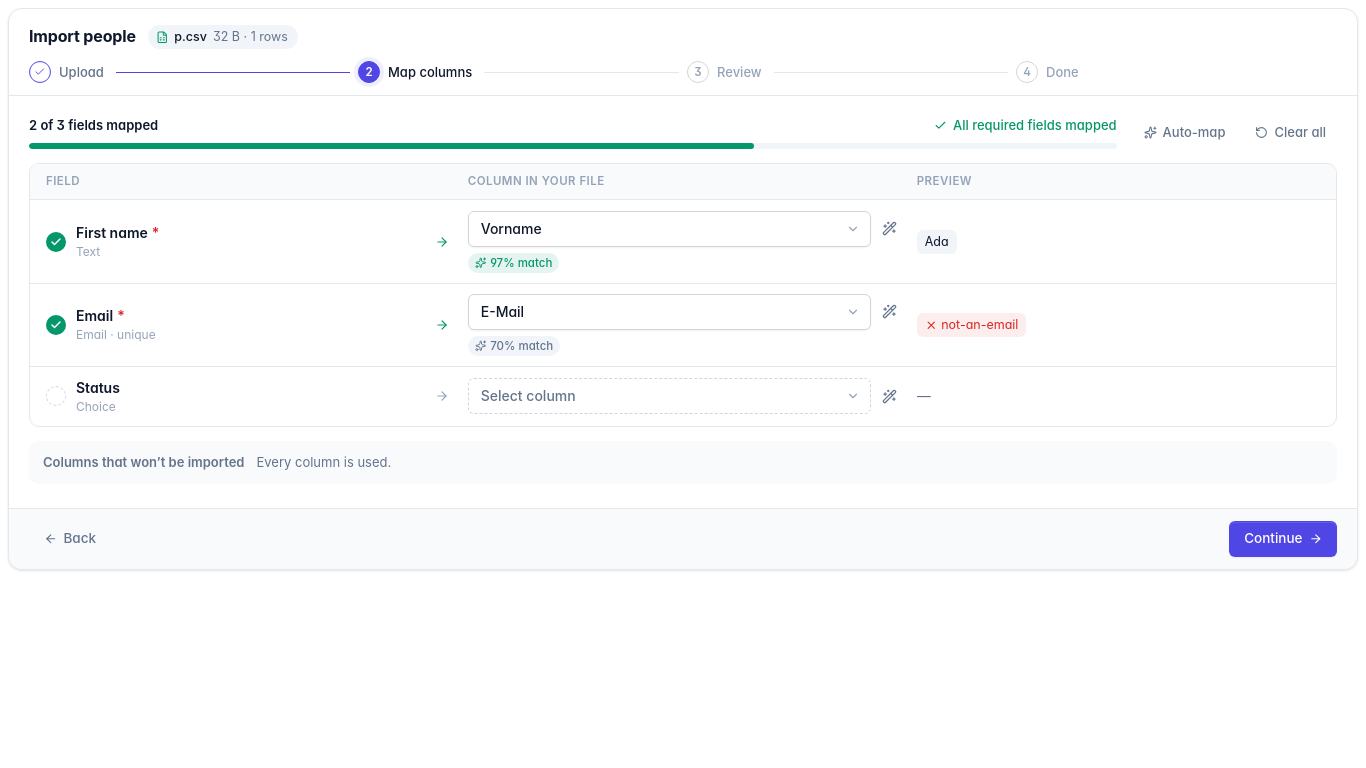
<Importer> › blocks submission while rows have errors
The image size is (1366, 768).
Click the button "Continue" at (1283, 539), box [1229, 521, 1337, 557]
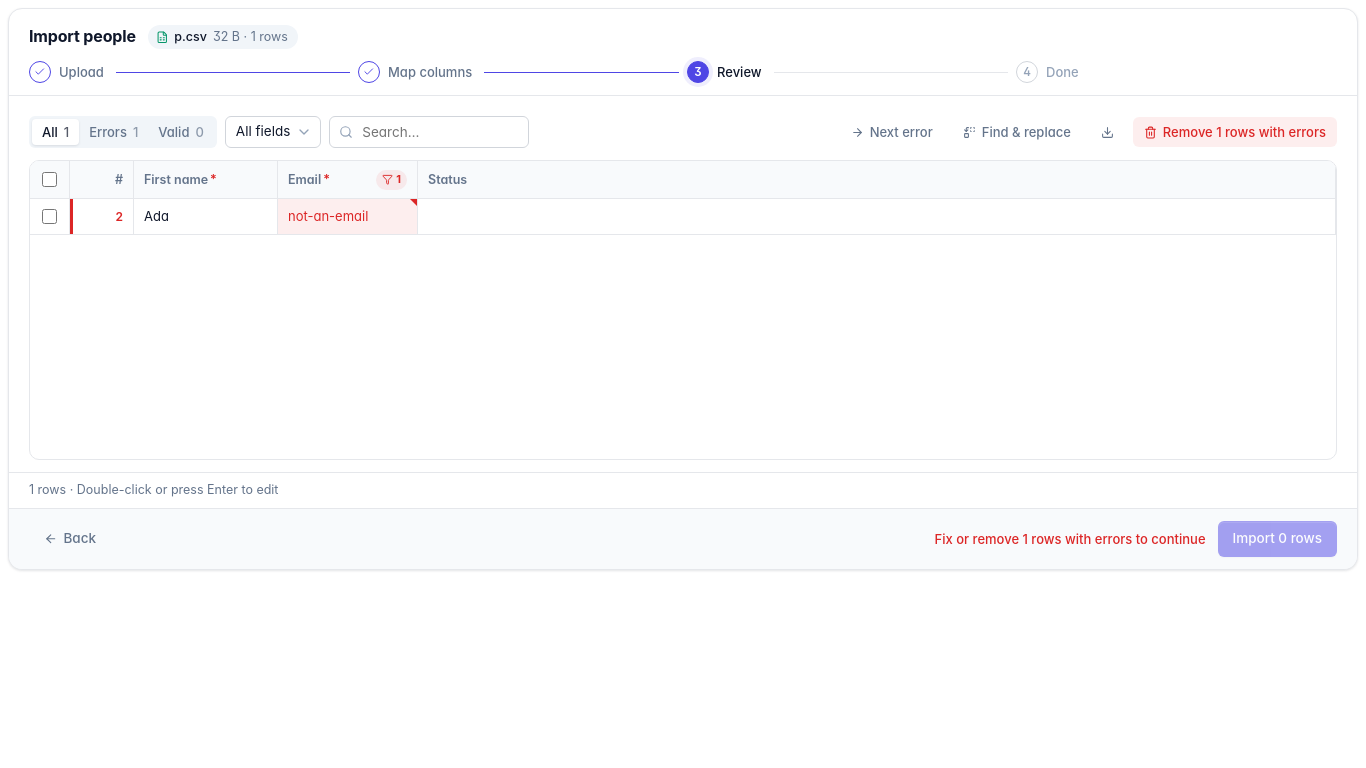
Now the text "Fix or remove 1 rows with errors to continue" is shown, box [935, 530, 1206, 548]
Now the button "Import 0 rows" is disabled, box [1218, 521, 1337, 557]
Click the button "Remove 1 rows with errors" at (1235, 132), box [1133, 117, 1337, 147]
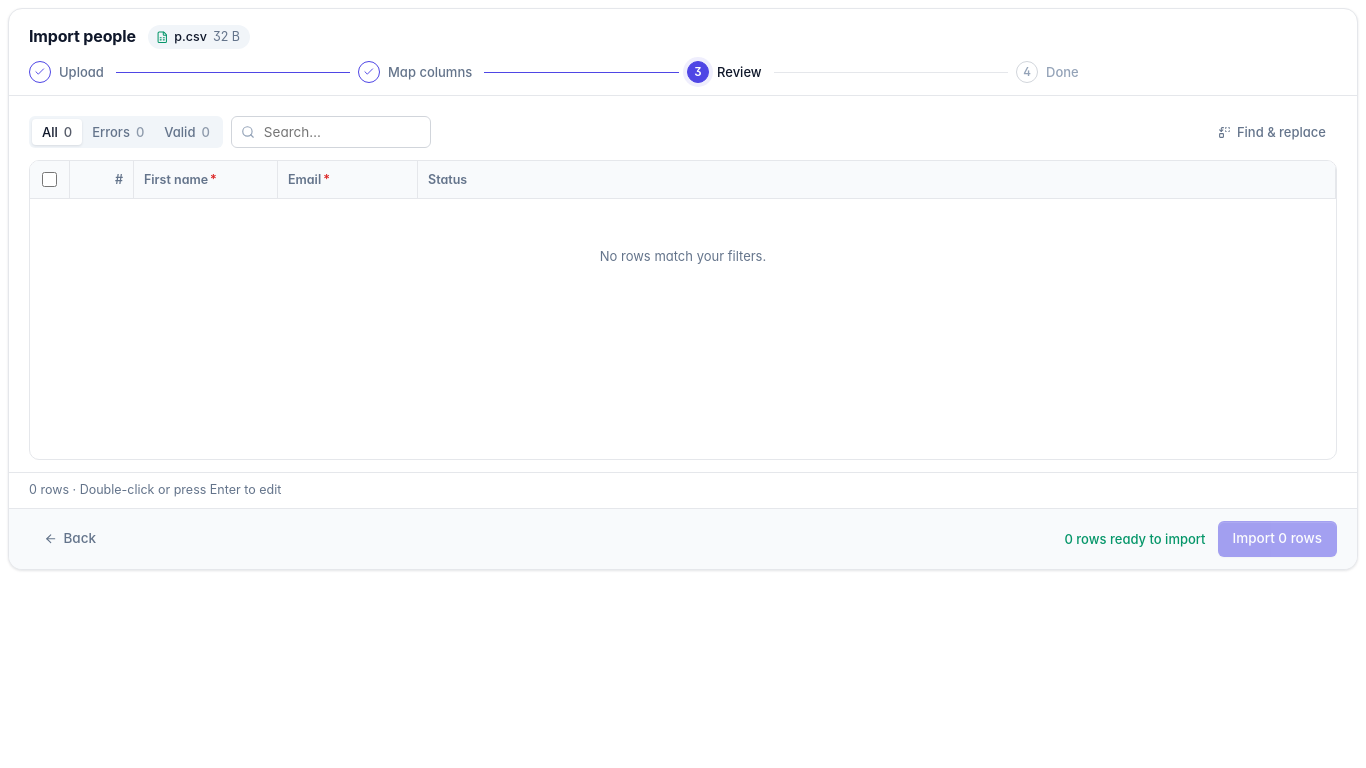
Now the text "No rows match your filters." is shown, box [600, 248, 766, 264]
